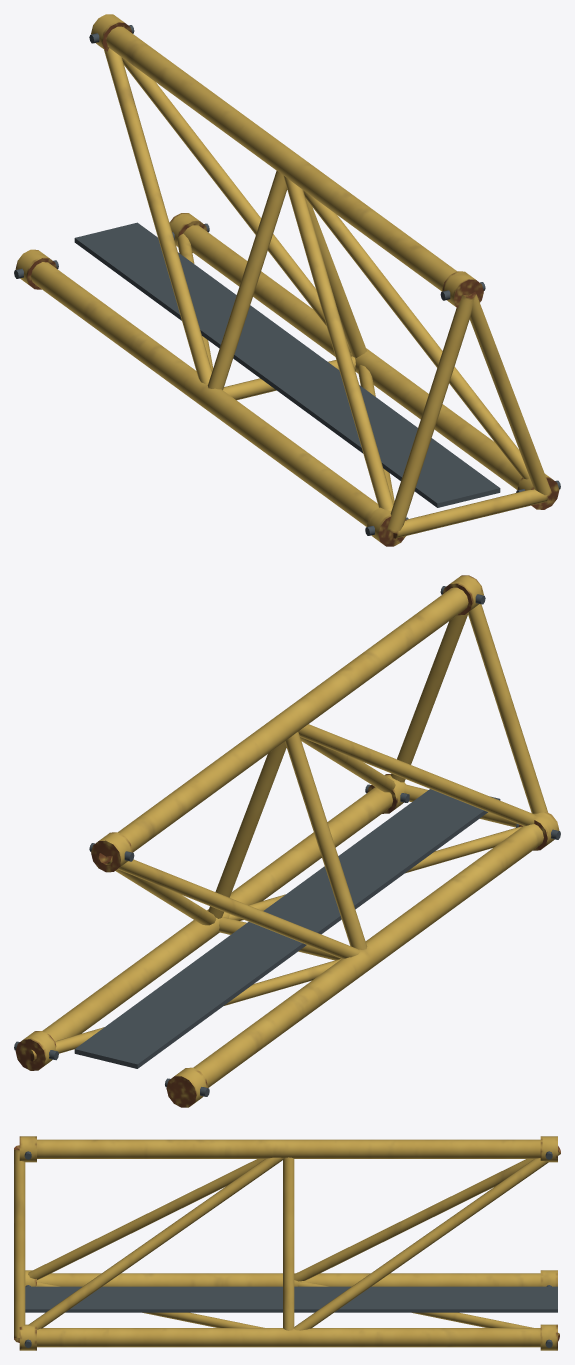
Rendered from jib_section_5m.glb.
The picture shows the model from 3 angles, top to bottom: view 1: azimuth 30°, elevation 25°; view 2: azimuth 150°, elevation 25°; view 3: azimuth 270°, elevation 25°; orthographic projection. The views are drawn at different scales.
Parts seen in each view (by area): view 1: jib_section_5m; view 2: jib_section_5m; view 3: jib_section_5m.
Boxes of the visible parts, bbox=[...] form: jib_section_5m: bbox=[14, 14, 560, 546]; jib_section_5m: bbox=[14, 575, 560, 1107]; jib_section_5m: bbox=[14, 1136, 560, 1350].
Size of the model in its own units: 1.52 by 1.89 by 5.08.
Materials: 2 (1 with a texture image).
